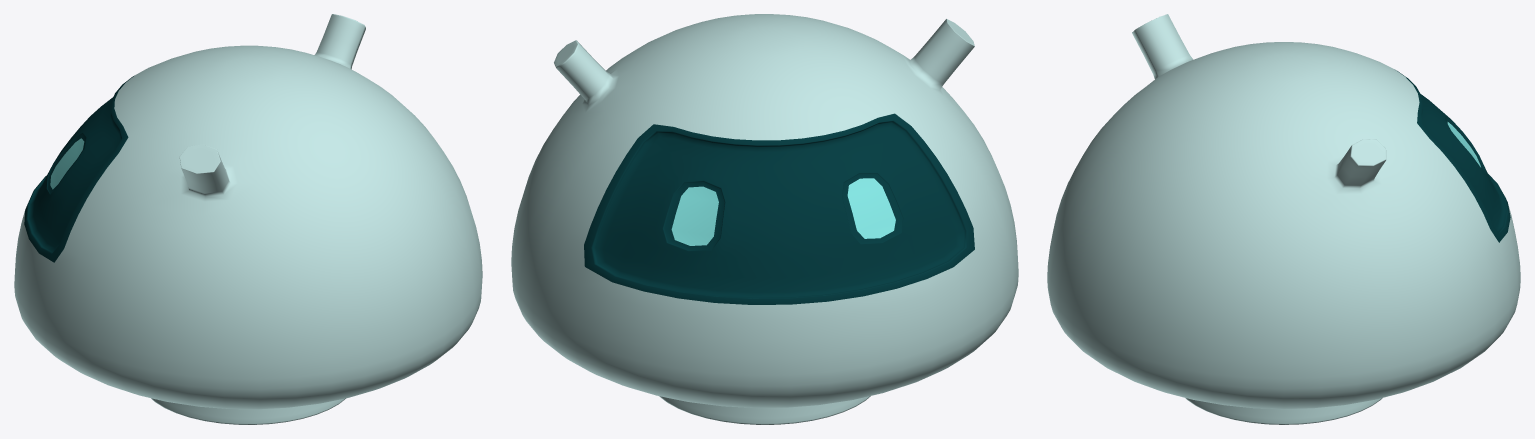
File: robot_02.fbx
3 views of the same model, side by side, from view 1: azimuth 30°, elevation 25°; view 2: azimuth 150°, elevation 25°; view 3: azimuth 270°, elevation 25° (orthographic). The views are drawn at different scales.
Parts seen in each view (by area): view 1: pSphere5; view 2: pSphere5; view 3: pSphere5.
Boxes of the visible parts, x1,y1,x2,y2 form: pSphere5: (14,14,482,424); pSphere5: (511,14,1018,424); pSphere5: (1047,14,1520,424).
Bounding box in the file's own units: 16.78 × 12.65 × 16.78.
